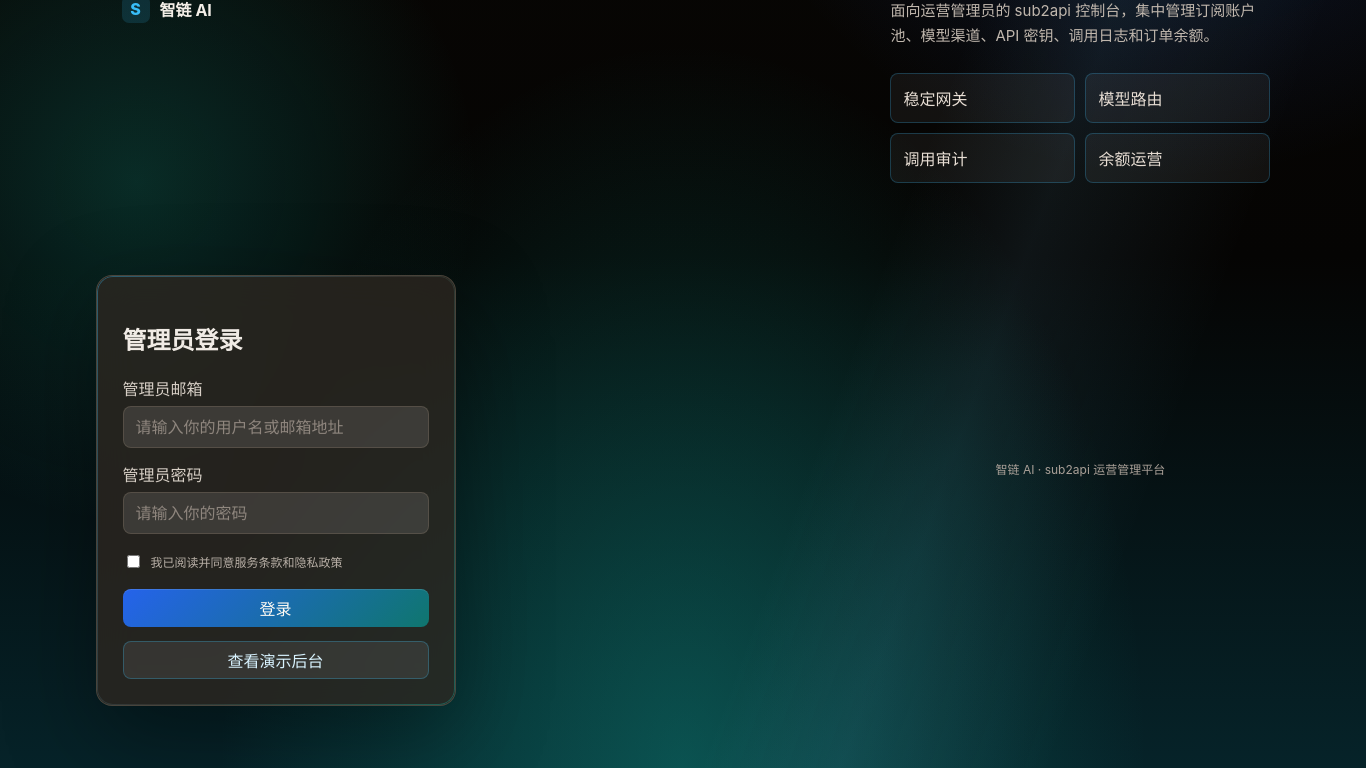
Scenario: sub2api admin shell › opens the local demo admin console without a live backend
(page scrolled)
Step 1. Click the button "查看演示后台" → [276, 660], box [123,641,429,679]
(page scrolled)
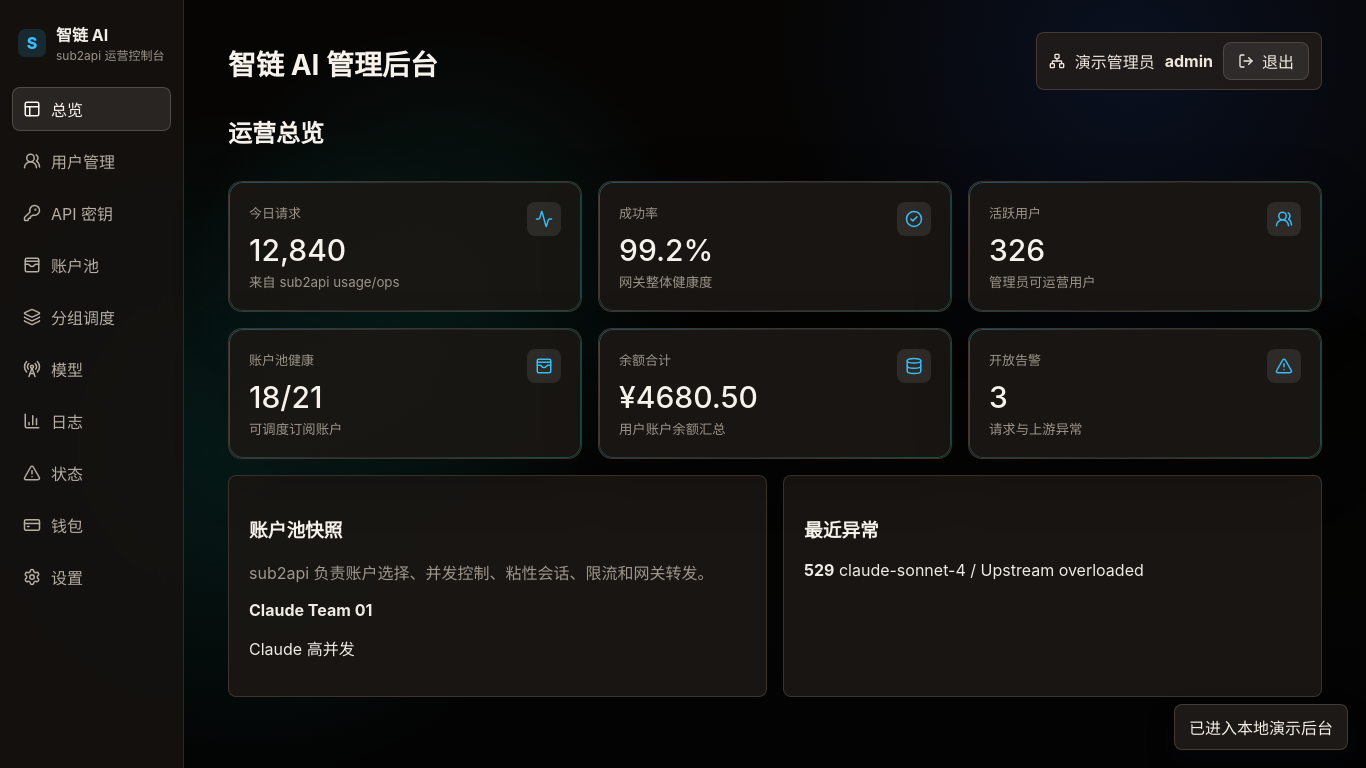
Now the heading "运营总览" is shown, box [228,114,324,149]
Now the text "演示管理员" is shown, box [1075,49,1155,73]
Now the text "Claude Team 01" is shown, box [249,600,372,620]
